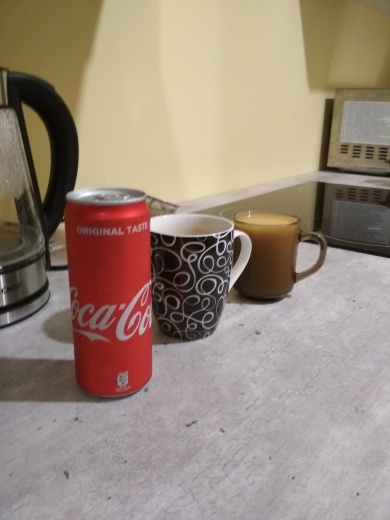cola: (56, 185, 165, 402)
